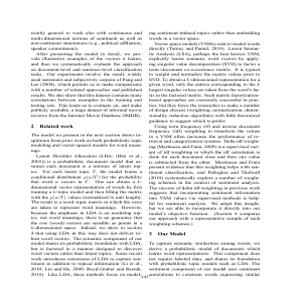text: (147, 30, 262, 280), (30, 28, 144, 280)
